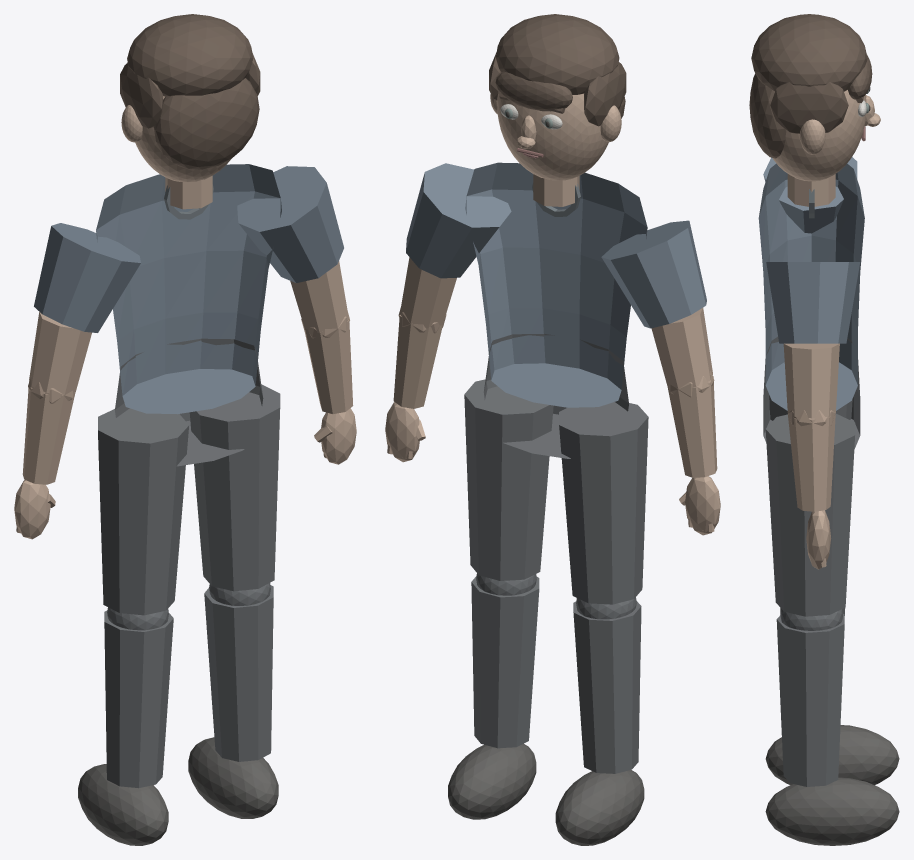
Rendered from default_man_lowpoly.glb.
3 views of the same model, side by side, from view 1: azimuth 30°, elevation 25°; view 2: azimuth 150°, elevation 25°; view 3: azimuth 270°, elevation 25° (orthographic). The views are drawn at different scales.
Visible parts, largest first — view 1: man_shirt_torso, man_upper_leg_-1, man_upper_leg_1, man_lower_leg_-1, man_lower_leg_1, man_sleeve_1, man_hair_cap, man_sleeve_-1, man_hair_back, man_shoe_-1, man_shoe_1, man_upper_arm_-1 (+11 smaller); view 2: man_shirt_torso, man_upper_leg_-1, man_upper_leg_1, man_lower_leg_-1, man_lower_leg_1, man_sleeve_1, man_sleeve_-1, man_hair_cap, man_head, man_shoe_-1, man_shoe_1, man_forearm_-1 (+11 smaller); view 3: man_upper_leg_1, man_shirt_torso, man_lower_leg_1, man_shoe_1, man_hair_cap, man_sleeve_1, man_upper_arm_1, man_forearm_1, man_head, man_shoe_-1, man_temple_hair_1, man_hair_back (+9 smaller).
Part boxes in pixels (bbox=[...]): man_shirt_torso: bbox=[96, 164, 281, 414]; man_upper_leg_-1: bbox=[98, 408, 188, 615]; man_upper_leg_1: bbox=[189, 384, 280, 591]; man_lower_leg_-1: bbox=[104, 610, 173, 788]; man_lower_leg_1: bbox=[204, 585, 273, 761]; man_sleeve_1: bbox=[237, 166, 343, 283]; man_hair_cap: bbox=[127, 14, 253, 96]; man_sleeve_-1: bbox=[34, 223, 140, 332]; man_hair_back: bbox=[153, 78, 259, 169]; man_shoe_-1: bbox=[78, 764, 168, 845]; man_shoe_1: bbox=[188, 737, 278, 818]; man_upper_arm_-1: bbox=[29, 312, 91, 395]; man_shirt_torso: bbox=[465, 162, 647, 407]; man_upper_leg_-1: bbox=[559, 402, 648, 604]; man_upper_leg_1: bbox=[464, 379, 553, 580]; man_lower_leg_-1: bbox=[573, 601, 641, 773]; man_lower_leg_1: bbox=[471, 576, 539, 748]; man_sleeve_1: bbox=[406, 163, 511, 278]; man_sleeve_-1: bbox=[601, 220, 706, 328]; man_hair_cap: bbox=[495, 14, 619, 94]; man_head: bbox=[497, 91, 608, 180]; man_shoe_-1: bbox=[555, 770, 644, 845]; man_shoe_1: bbox=[448, 743, 536, 819]; man_forearm_-1: bbox=[667, 376, 717, 477]; man_upper_leg_1: bbox=[765, 413, 855, 616]; man_shirt_torso: bbox=[758, 163, 864, 410]; man_lower_leg_1: bbox=[776, 614, 844, 786]; man_shoe_1: bbox=[765, 777, 899, 845]; man_hair_cap: bbox=[751, 14, 867, 91]; man_sleeve_1: bbox=[766, 262, 860, 343]; man_upper_arm_1: bbox=[783, 343, 839, 418]; man_forearm_1: bbox=[788, 414, 835, 511]; man_head: bbox=[772, 90, 866, 181]; man_shoe_-1: bbox=[765, 725, 899, 785]; man_temple_hair_1: bbox=[770, 82, 848, 133]; man_hair_back: bbox=[749, 73, 786, 158].
Size of the model in its own units: 0.8444 by 1.92 by 0.3283.
